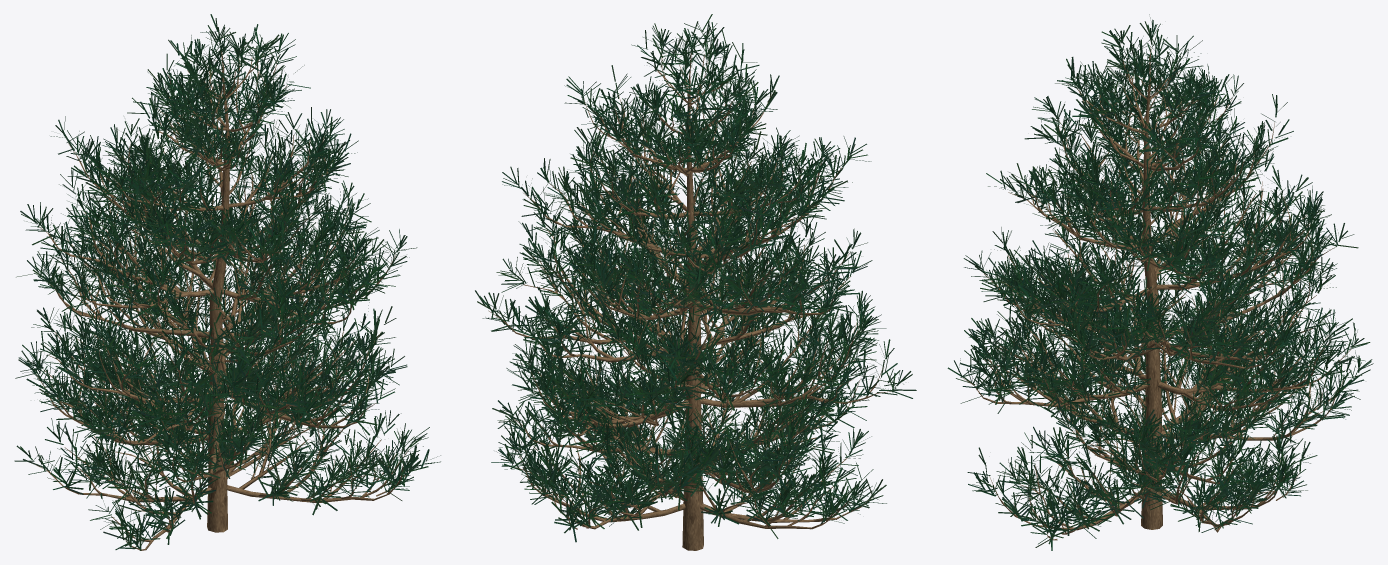
The model's file is tree_pine_light.glb.
3 renders of one model, left to right at view 1: azimuth 30°, elevation 25°; view 2: azimuth 150°, elevation 25°; view 3: azimuth 270°, elevation 25°, orthographic. The views are drawn at different scales.
Parts seen in each view (by area): view 1: Tree_Pine_Light; view 2: Tree_Pine_Light; view 3: Tree_Pine_Light.
Part boxes in pixels (x1,y1,x2,y2): Tree_Pine_Light: [14, 14, 440, 550]; Tree_Pine_Light: [475, 14, 916, 550]; Tree_Pine_Light: [947, 14, 1373, 550].
Bounding box in the file's own units: 4.1 × 5.55 × 4.23.
2 materials, 1 textured.
